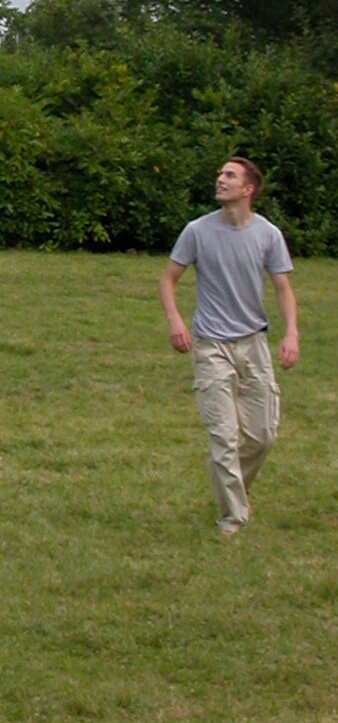person: (157, 155, 296, 533)
